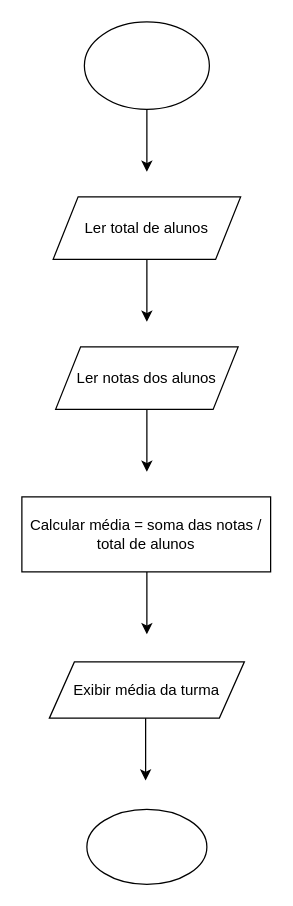
Some shapes in this 293 by 906 pixel diagram are drawn without their labels. Each missing label, with the centre of its shape:
Fim: (x=146, y=846)
Início: (x=146, y=65)
